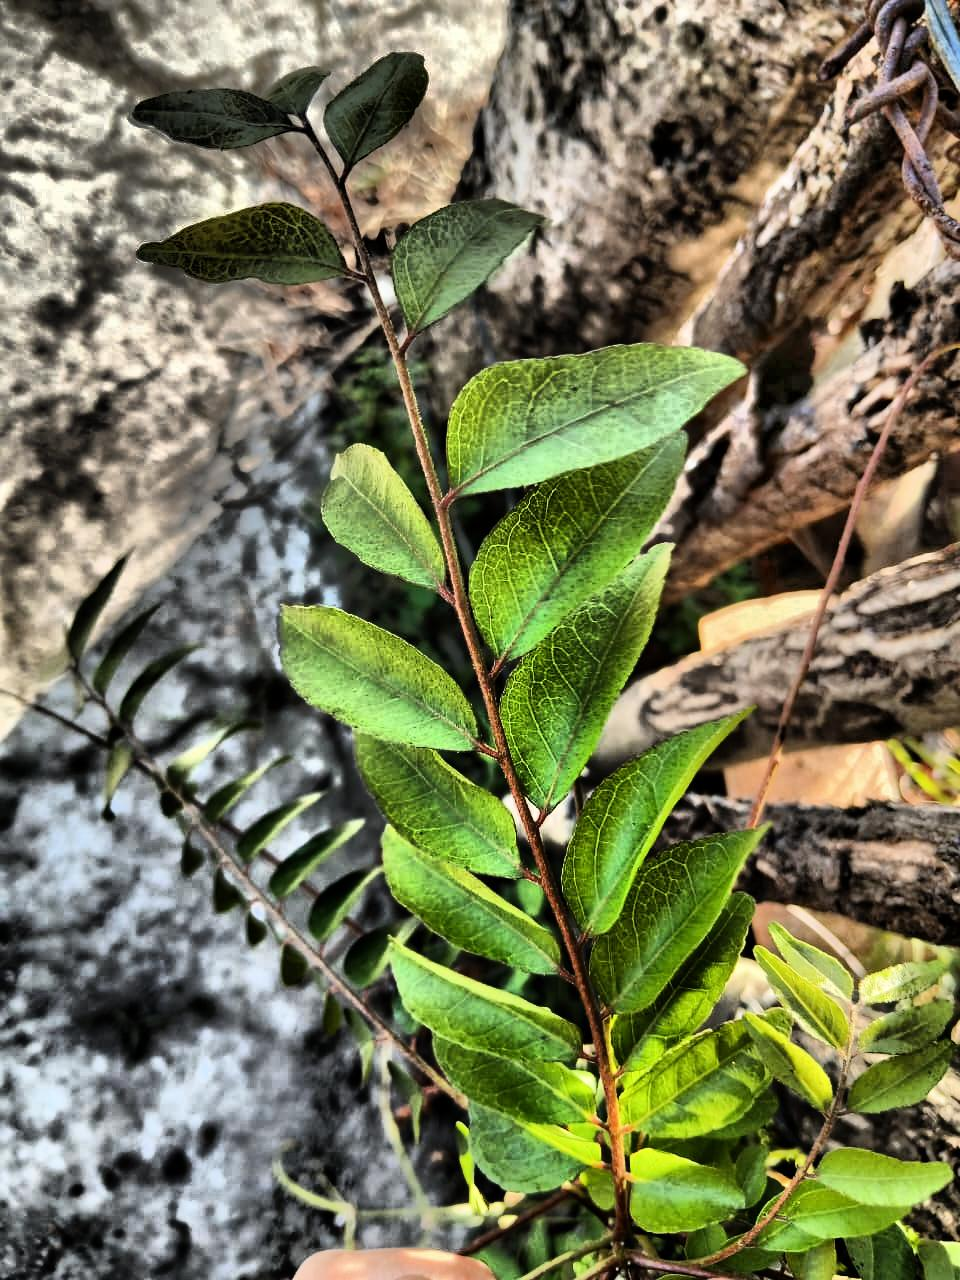daun kari: (135, 55, 883, 1279)
